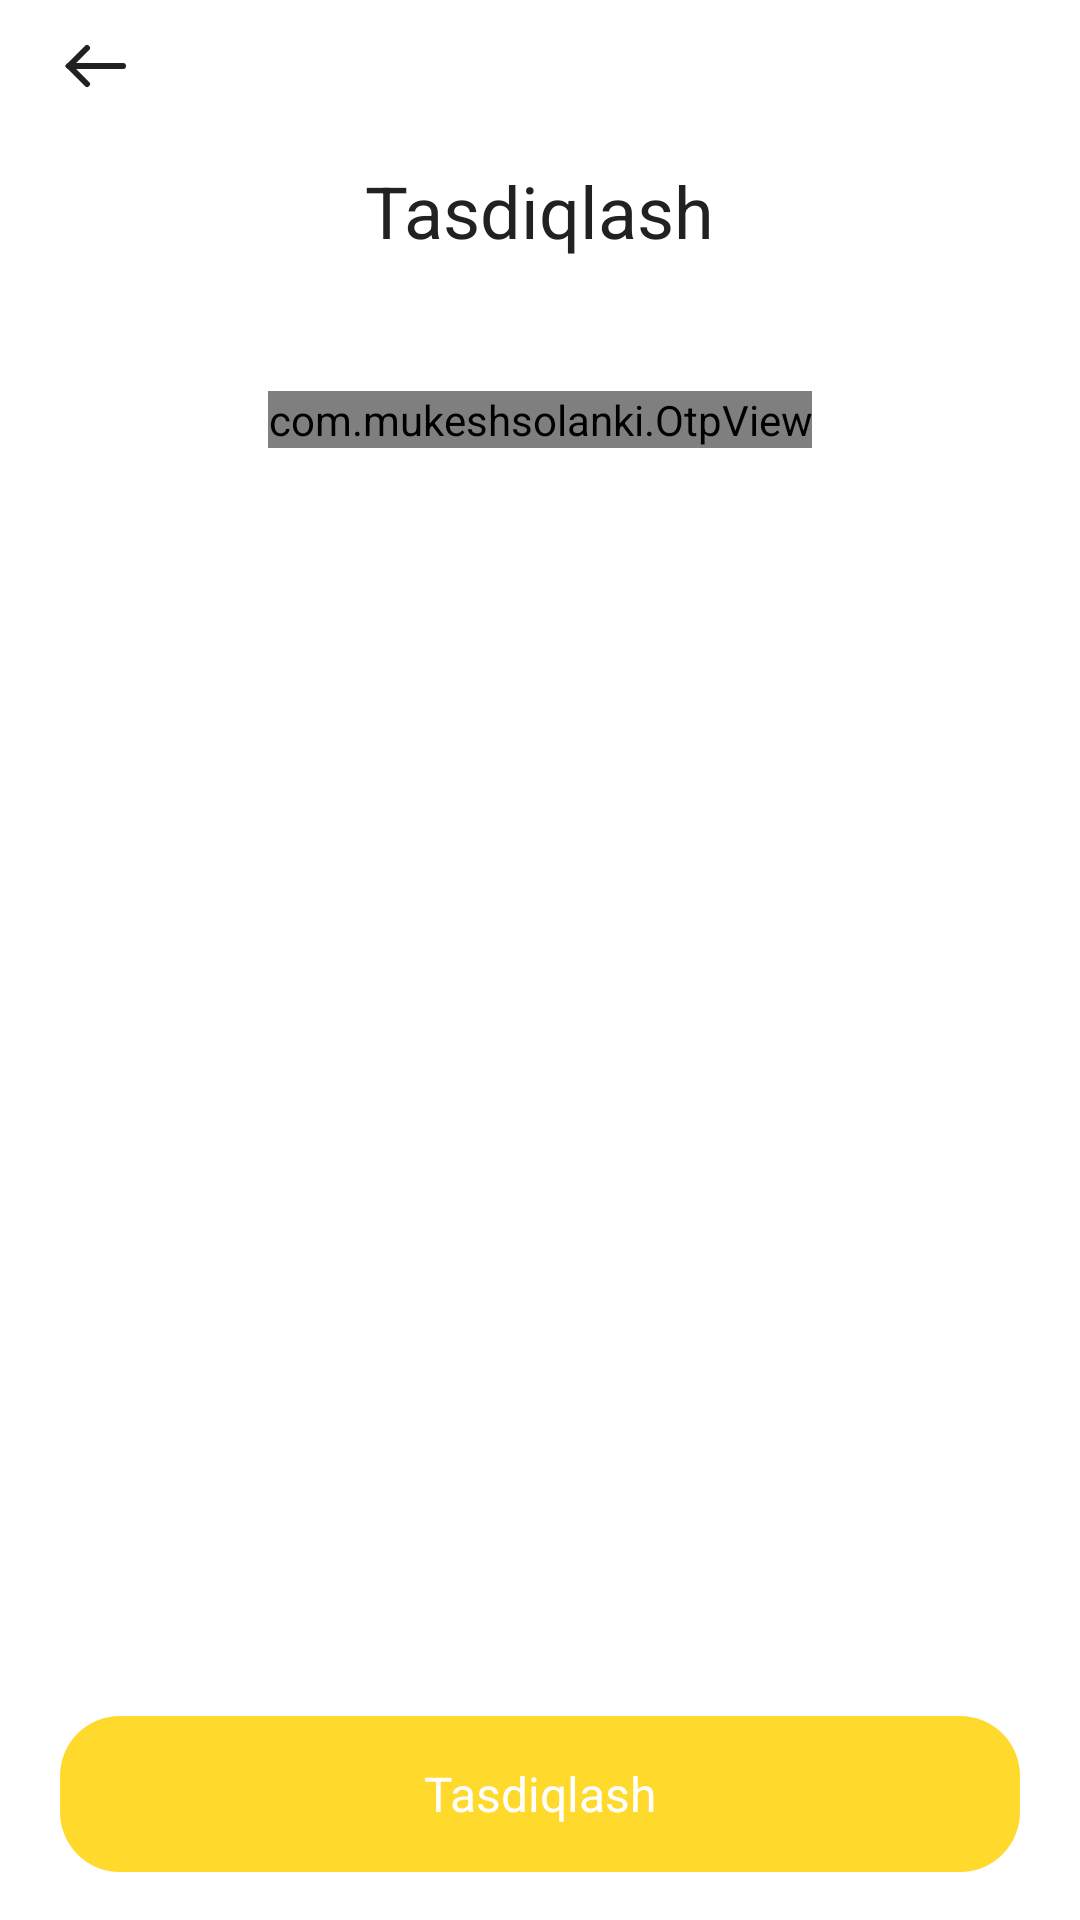

Named icons in this screenshot (1080x1920) and their centers, point (x, y):
back: point (95, 66)
